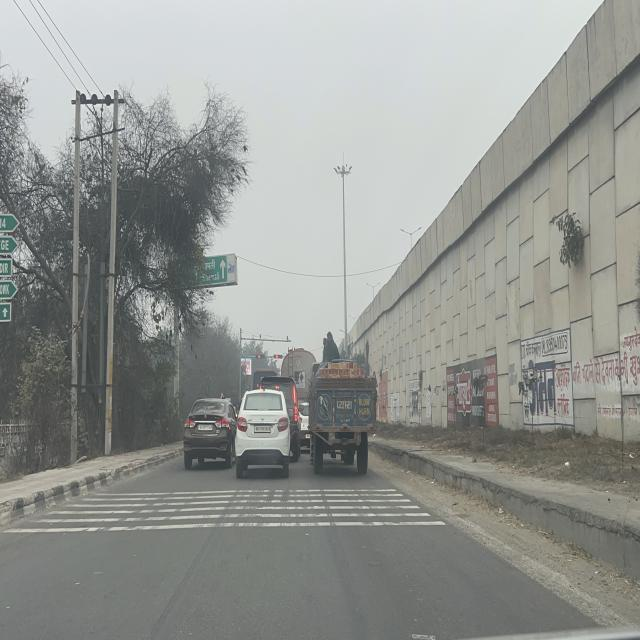GENERAL: (170, 253, 237, 287), (0, 212, 20, 323)
